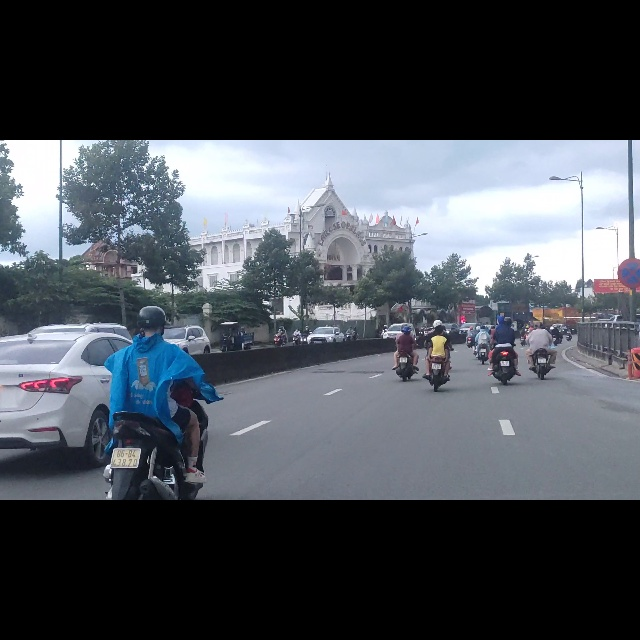bien_cam: (618, 210, 640, 264)
